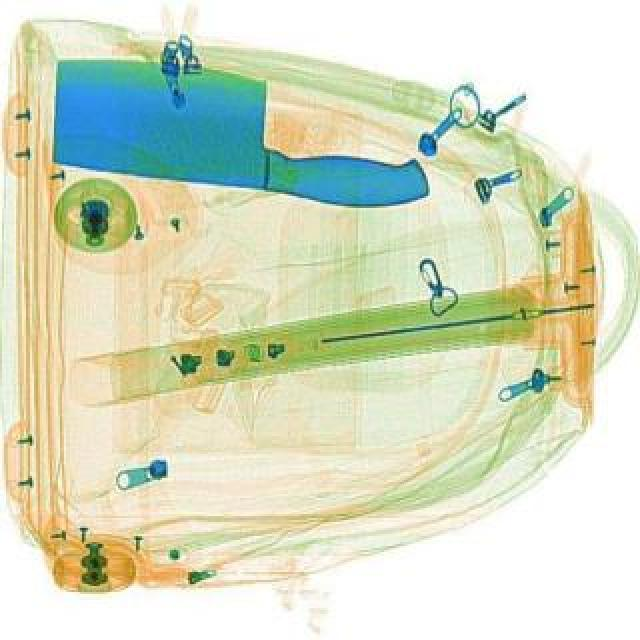knife: (36, 48, 444, 214)
